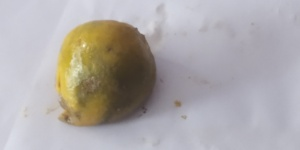BAD: (56, 20, 154, 125)
